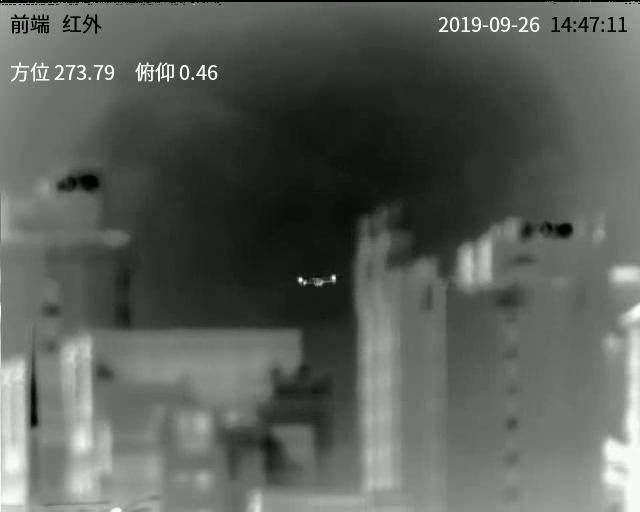DRONE: (295, 274, 339, 288)
